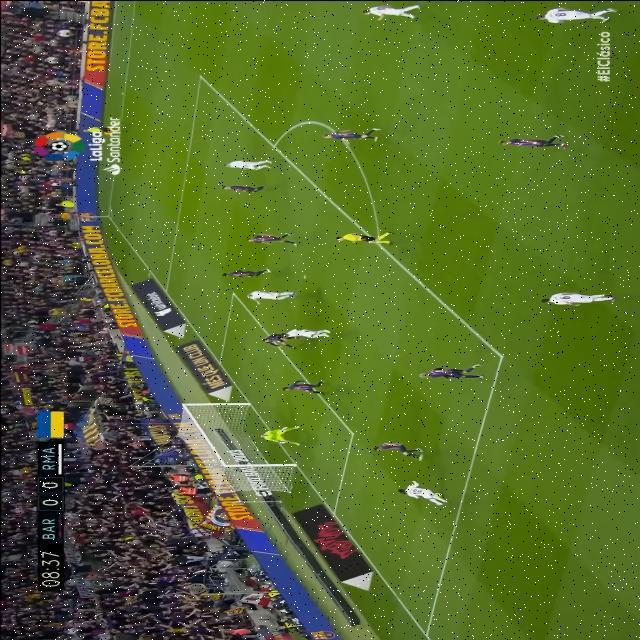goalkeeper: (239, 403, 316, 454)
player: (516, 278, 628, 319), (377, 475, 476, 519), (401, 353, 521, 389), (366, 430, 451, 466), (212, 144, 293, 176), (297, 123, 401, 147), (204, 255, 301, 279), (524, 0, 632, 21), (275, 311, 348, 342), (502, 129, 575, 159), (336, 1, 419, 27), (233, 227, 300, 259), (227, 277, 300, 306), (212, 170, 281, 198), (269, 369, 334, 397), (247, 335, 301, 347)
referee: (307, 220, 417, 254), (83, 124, 125, 133)
